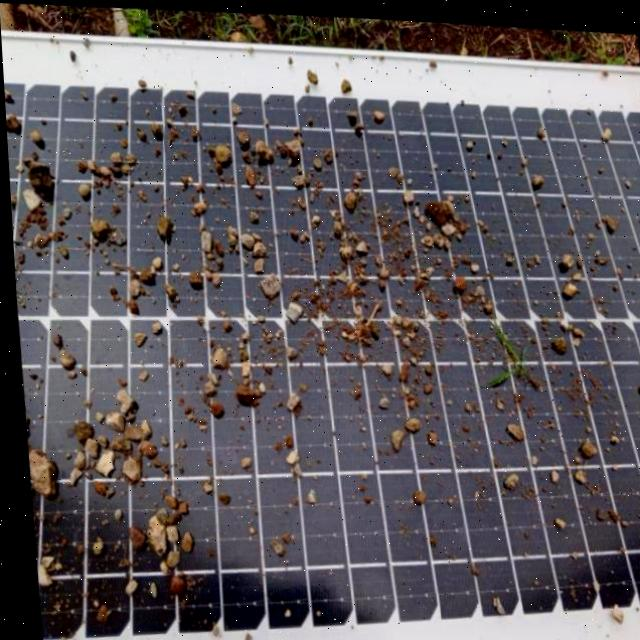Surface Contaminant: (1, 49, 640, 640)
